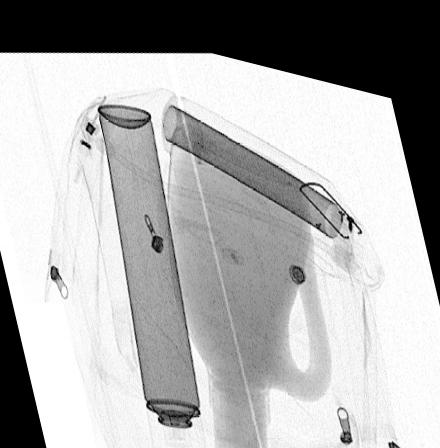Sprayer: (94, 96, 209, 448)
